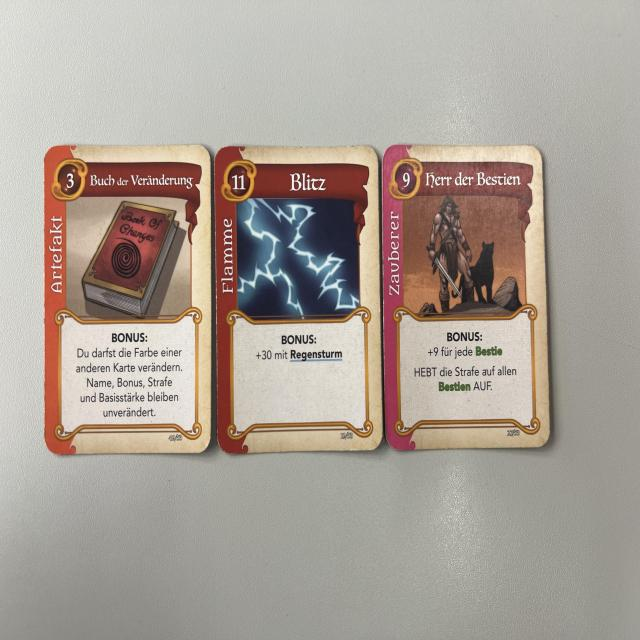Beast Master: (381, 140, 553, 453)
Book Of Changes: (42, 143, 214, 458)
Lightning: (214, 142, 384, 464)
